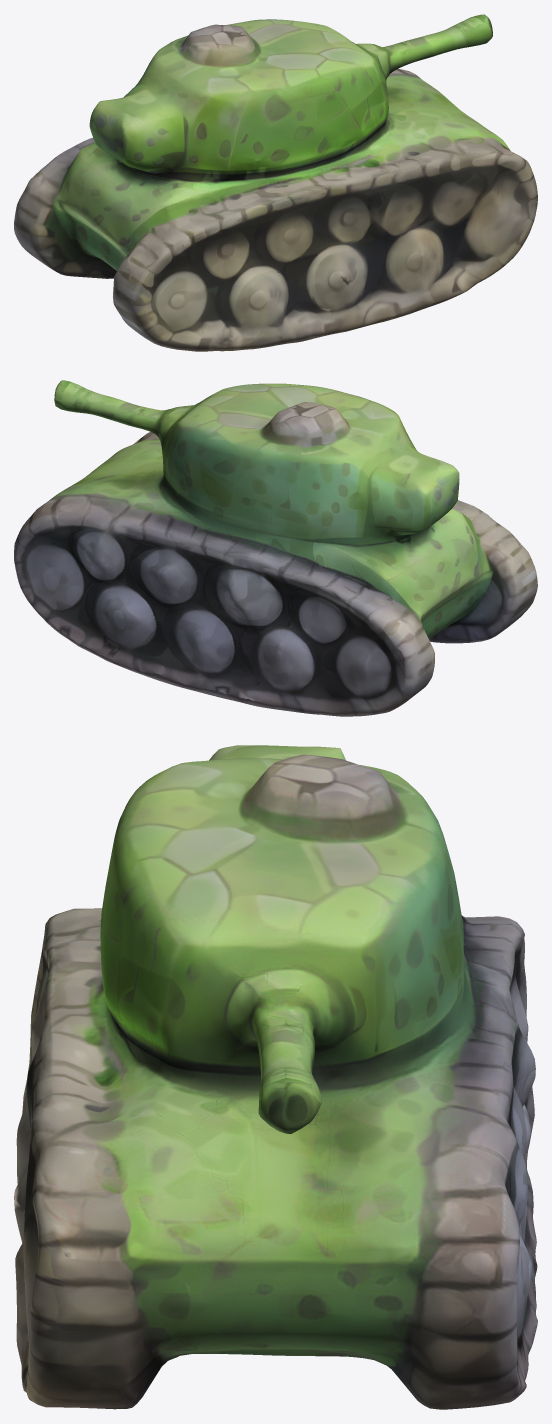
File: Create_a_tank_made_out_of_cobblestone_0417082514_refine.obj
The picture shows the model from 3 angles, top to bottom: view 1: azimuth 30°, elevation 25°; view 2: azimuth 150°, elevation 25°; view 3: azimuth 270°, elevation 25°; orthographic projection. The views are drawn at different scales.
Visible parts, largest first — view 1: Mesh_0; view 2: Mesh_0; view 3: Mesh_0.
Boxes of the visible parts, x1,y1,x2,y2 form: Mesh_0: [14, 14, 537, 351]; Mesh_0: [14, 380, 537, 716]; Mesh_0: [14, 745, 537, 1409].
Bounding box in the file's own units: 1.2 × 0.7106 × 0.6784.
Materials: 1 (1 with a texture image).
